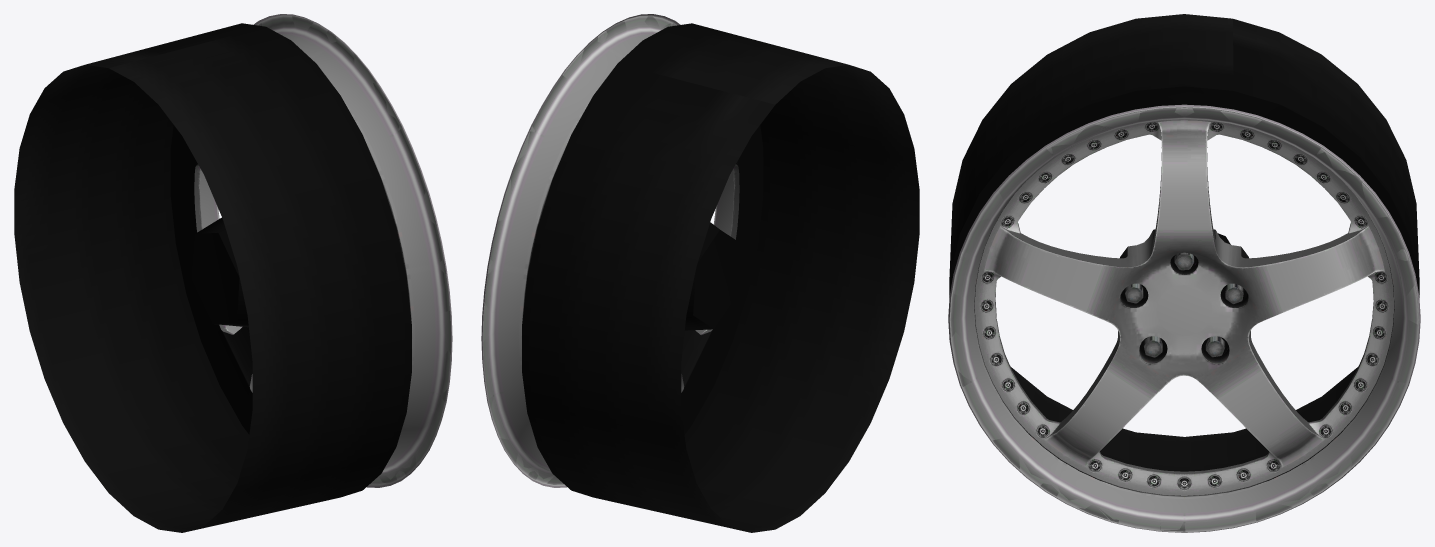
Rendered from wheel53.fbx.
The picture shows the model from 3 angles, left to right: view 1: azimuth 30°, elevation 25°; view 2: azimuth 150°, elevation 25°; view 3: azimuth 270°, elevation 25°; orthographic projection. The views are drawn at different scales.
Visible parts, largest first — view 1: ifo_astra_wheel_wheel_inner_rim_, wheel_rim, ifo_astra_wheel_wheel_chrome_rim_; view 2: ifo_astra_wheel_wheel_inner_rim_, ifo_astra_wheel_wheel_chrome_rim_, wheel_rim; view 3: ifo_astra_wheel_wheel_chrome_rim_, ifo_astra_wheel_wheel_inner_rim_, wheel_rim.
Boxes of the visible parts, x1,y1,x2,y2 form: ifo_astra_wheel_wheel_inner_rim_: (14,23,411,532); wheel_rim: (200,14,452,487); ifo_astra_wheel_wheel_chrome_rim_: (194,14,450,487); ifo_astra_wheel_wheel_inner_rim_: (522,23,919,532); ifo_astra_wheel_wheel_chrome_rim_: (482,14,739,487); wheel_rim: (481,16,733,487); ifo_astra_wheel_wheel_chrome_rim_: (950,108,1420,532); ifo_astra_wheel_wheel_inner_rim_: (949,14,1419,471); wheel_rim: (948,104,1420,532).
Bounding box in the file's own units: 0.227 × 0.481 × 0.4809.
Materials: 1 (1 with a texture image).
